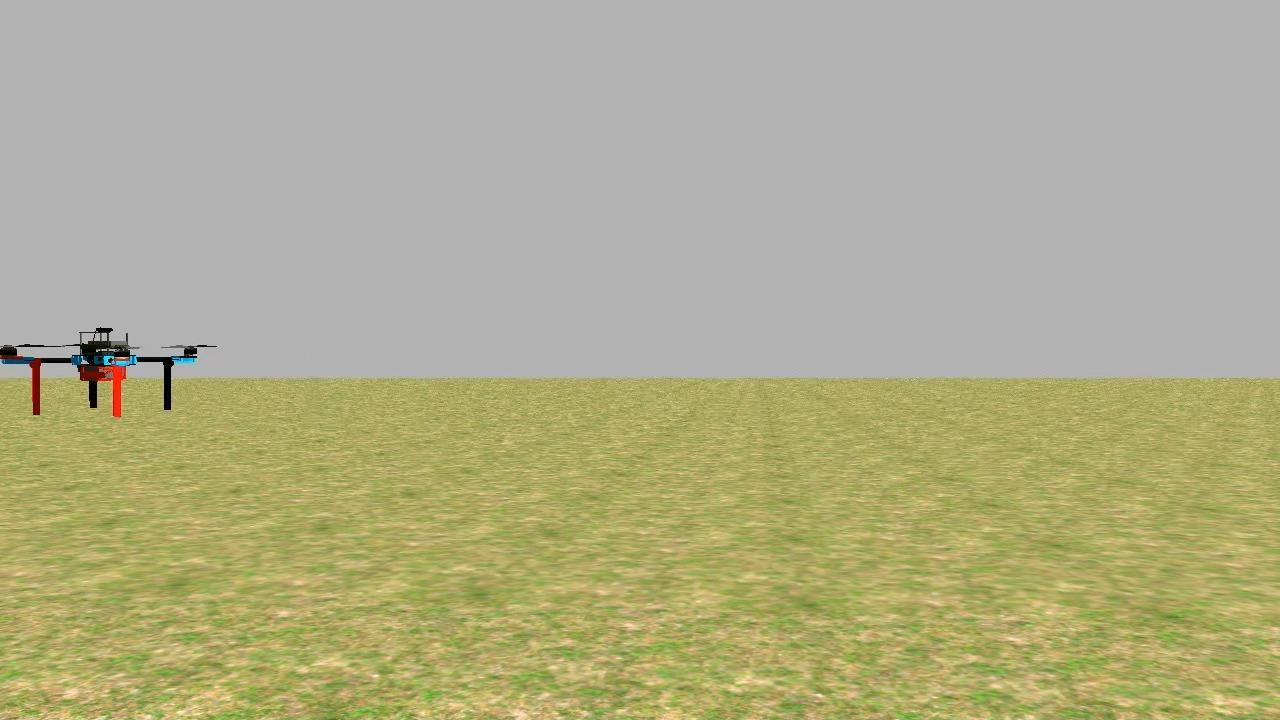UAV: (0, 313, 207, 442)
